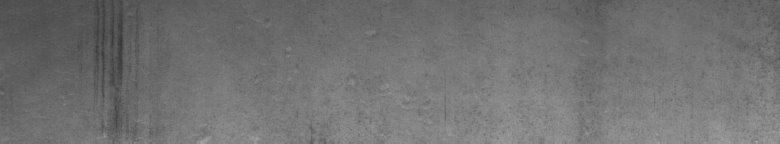ka: (94, 13, 127, 128)
